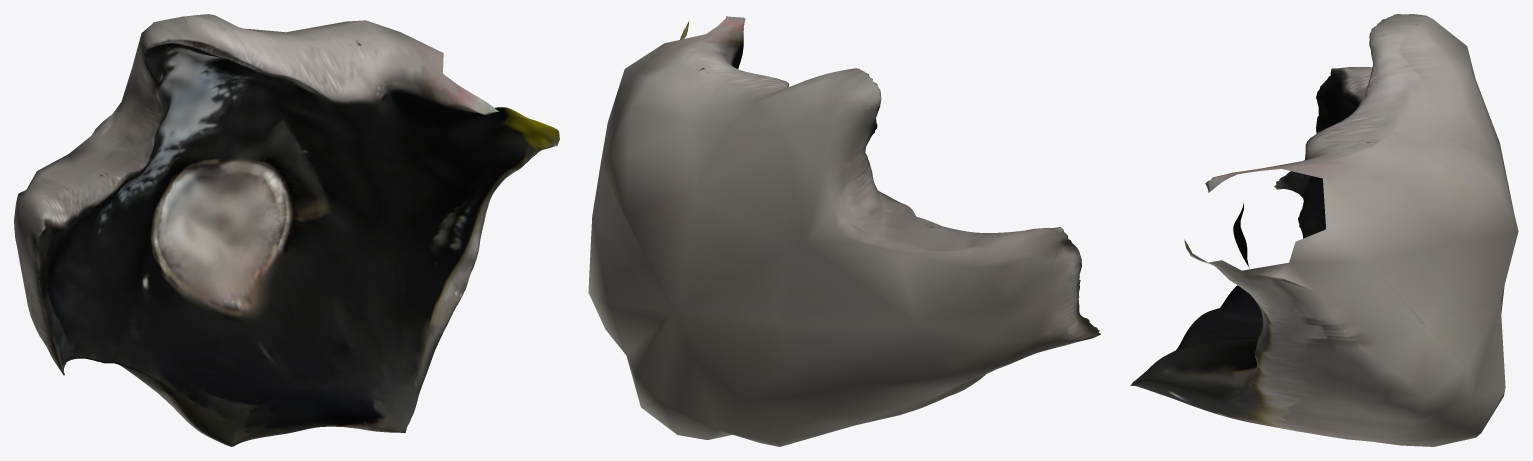
3 renders of one model, left to right at view 1: azimuth 30°, elevation 25°; view 2: azimuth 150°, elevation 25°; view 3: azimuth 270°, elevation 25°, orthographic. The views are drawn at different scales.
Bounding box in the file's own units: 0.2554 × 0.1943 × 0.1868.
Materials: 1 (1 with a texture image).
